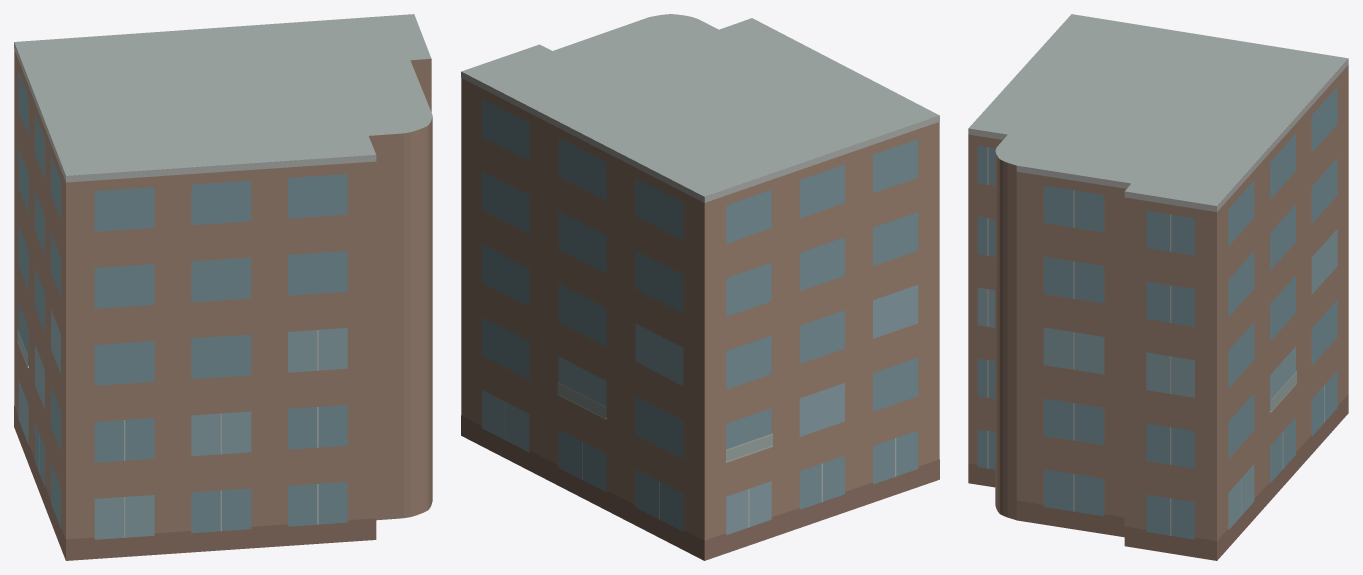
File: survey-upis-32969651.glb
3 views of the same model, side by side, from view 1: azimuth 30°, elevation 25°; view 2: azimuth 150°, elevation 25°; view 3: azimuth 270°, elevation 25° (orthographic). The views are drawn at different scales.
Parts seen in each view (by area): view 1: survey-upis-32969651.tmp; view 2: survey-upis-32969651.tmp; view 3: survey-upis-32969651.tmp.
Part boxes in pixels (box(x1,y1,x2,y2)): survey-upis-32969651.tmp: box(14, 14, 432, 560); survey-upis-32969651.tmp: box(461, 14, 939, 560); survey-upis-32969651.tmp: box(968, 14, 1348, 560).
Bounding box in the file's own units: 16.62 × 14.3 × 13.9.
